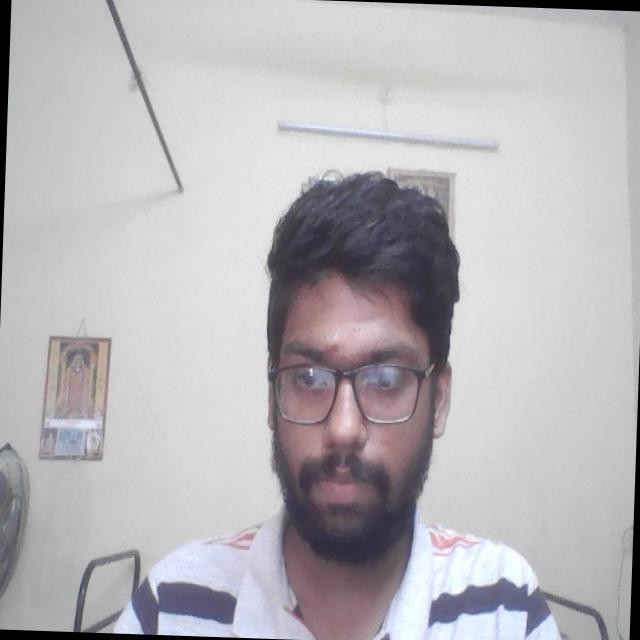Focused: (262, 298, 440, 530)
